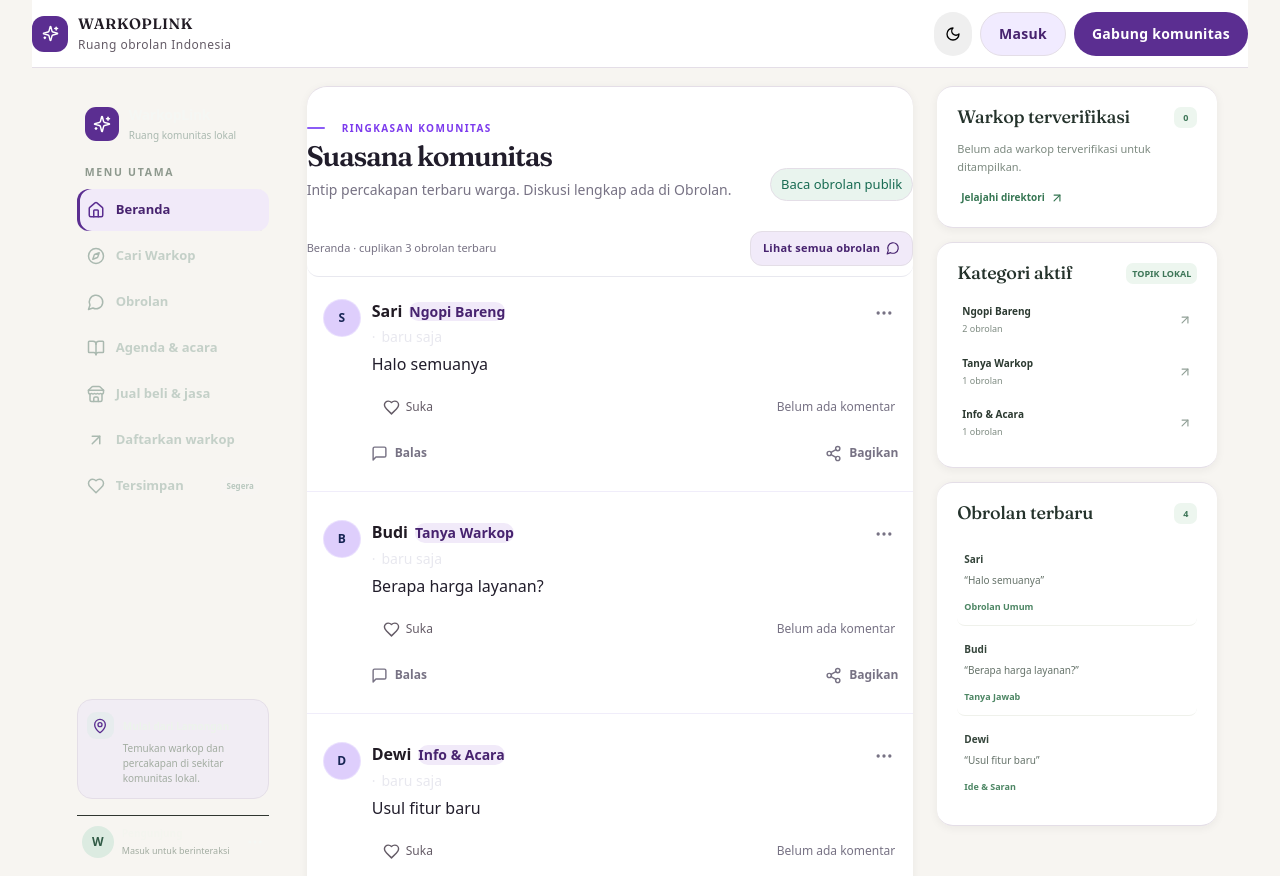
halaman publik › Beranda hanya menampilkan tiga cuplikan dan tautan membuka feed Obrolan lengkap
Expected: the text "Halo semuanya" is shown, [372,353,488,375]
What coordinates should you click on to do the following:
click the button "Lihat semua obrolan"
I would click on:
 (832, 248)
Its box is [750,230,913,266].
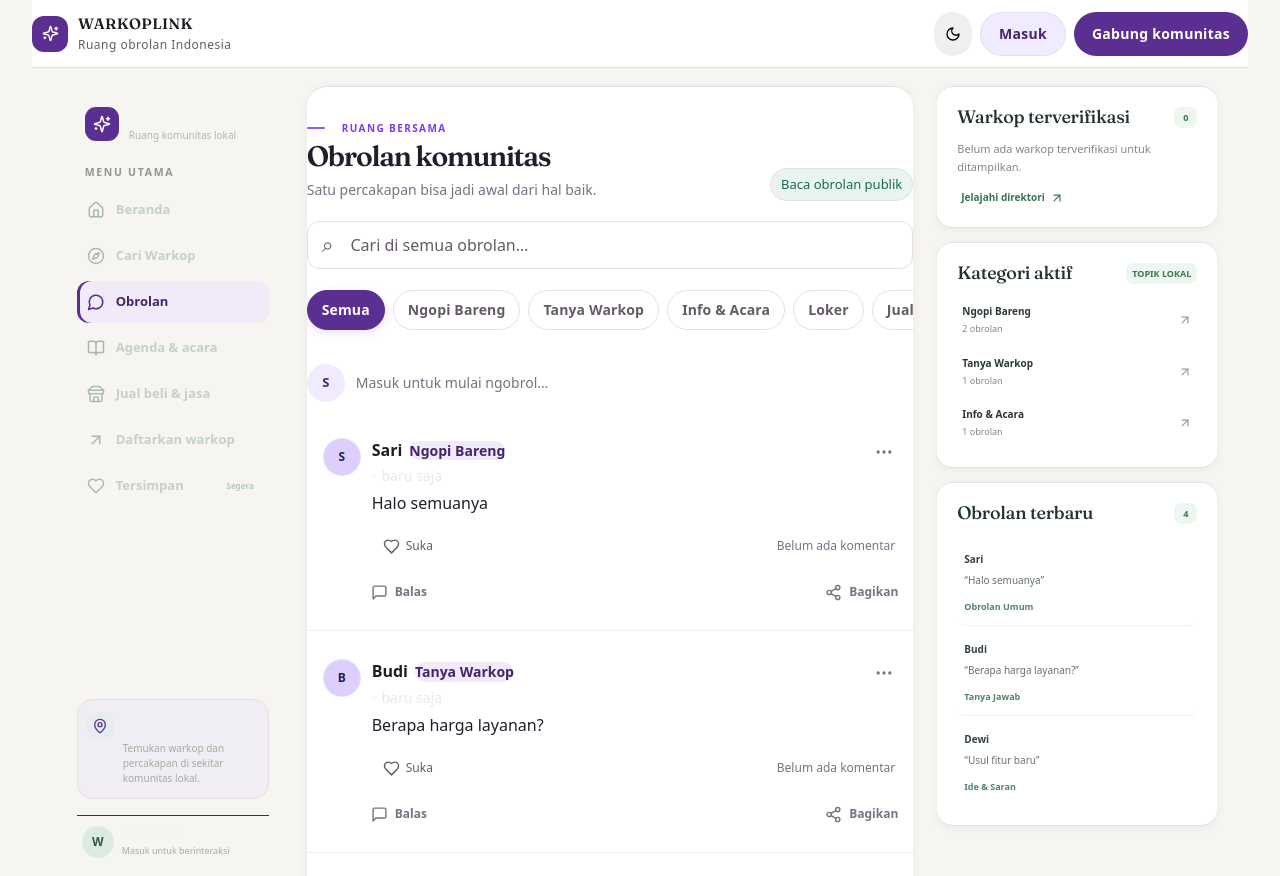
Expected: the heading "Obrolan komunitas" is shown, [307,138,550,173]
Expected: the element named "Kategori obrolan" is shown, [307,278,913,342]
